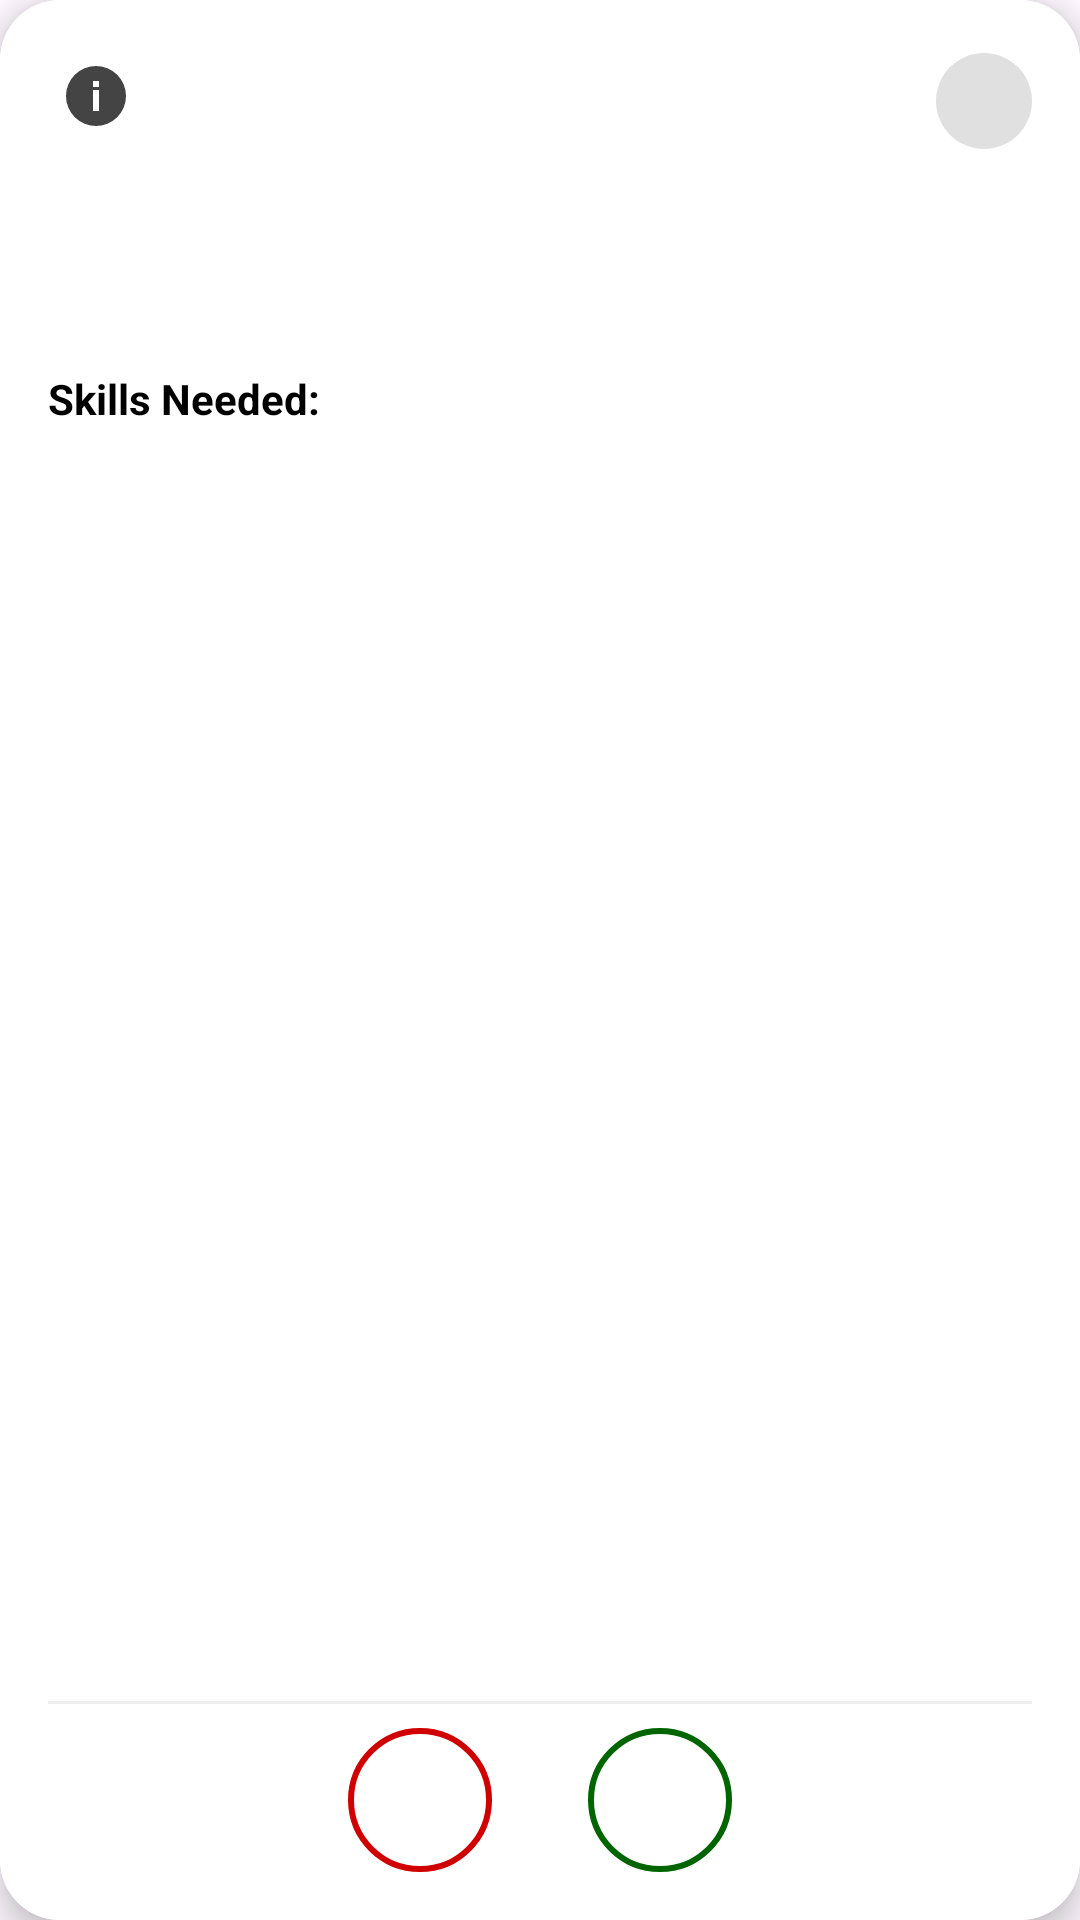

Locate icon controls on the screen. Image size 1080x1920, boxes as [x1, y1, x2, y2].
More Info: [66, 66, 126, 126]
